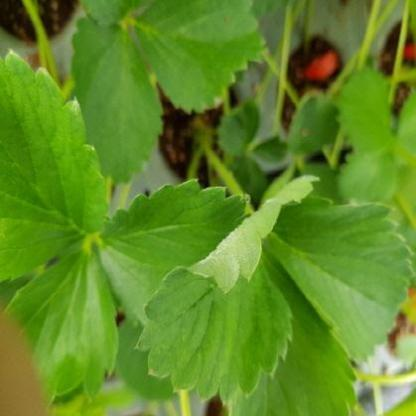Strawberry_Powdery_Mildew_Leaf: (133, 174, 321, 406)
